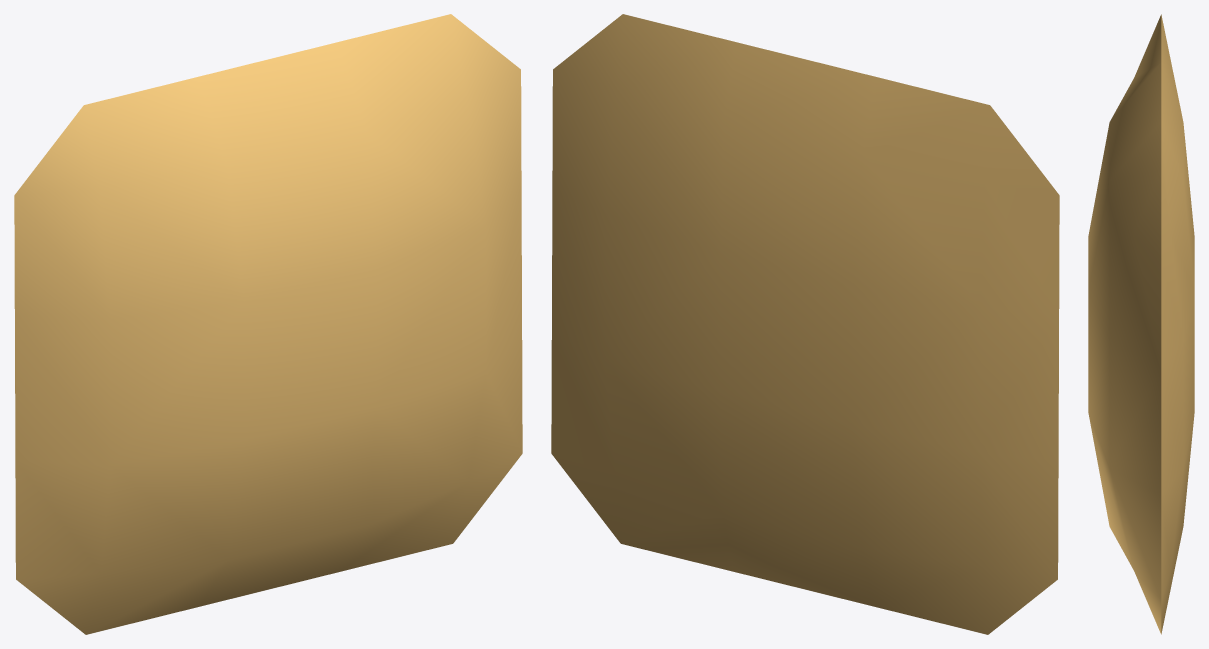
Rendered from YellowCushion.glb.
The picture shows the model from 3 angles, left to right: view 1: azimuth 30°, elevation 25°; view 2: azimuth 150°, elevation 25°; view 3: azimuth 270°, elevation 25°; orthographic projection. The views are drawn at different scales.
Visible parts, largest first — view 1: cushion; view 2: cushion; view 3: cushion.
Part boxes in pixels (bbox=[...]): cushion: bbox=[14, 14, 522, 634]; cushion: bbox=[551, 14, 1059, 634]; cushion: bbox=[1088, 14, 1194, 634].
Bounding box in the file's own units: 0.6322 × 0.6322 × 0.1306.
1 material, 1 textured.
